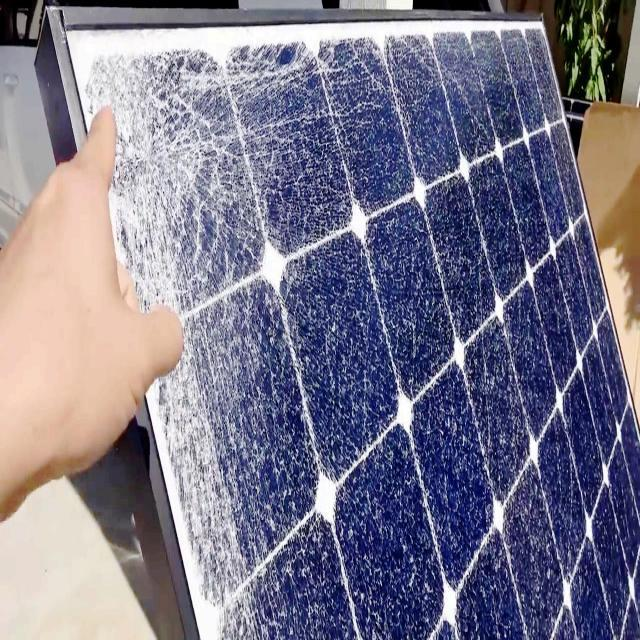faulty: (60, 13, 640, 640)
